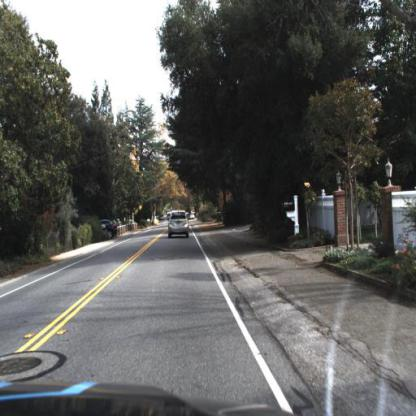car: (166, 207, 194, 239), (96, 214, 117, 241), (101, 218, 119, 242)
